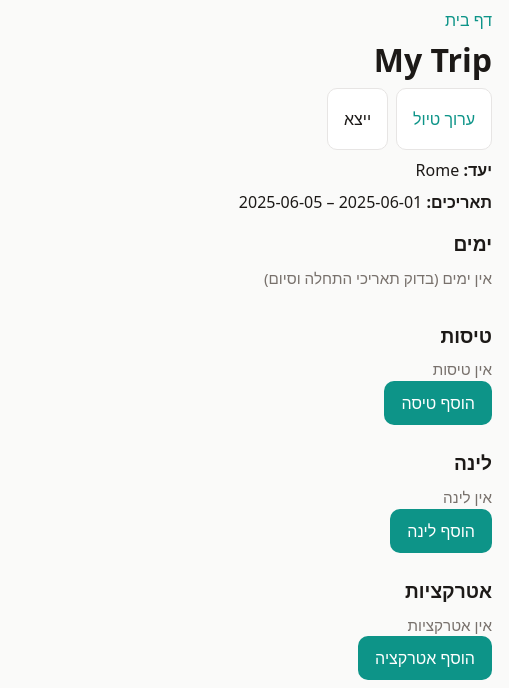
Scenario: Trip page › opens export dialog with TXT and PDF when clicking ייצא
The image size is (509, 688).
Check: the button "TXT" is not shown
What coordinates should you click on to do the following:
click the button "ייצא"
I would click on:
 (358, 119)
Its box is [327,88,388,150].
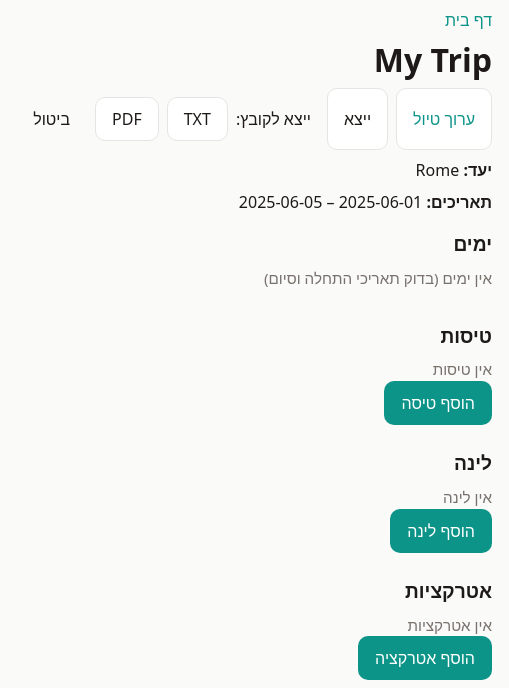
Check: the button "TXT" is shown, box [167,97,228,141]
Check: the button "PDF" is shown, box [95,97,159,141]
Check: the button "ביטול" is shown, box [16,97,87,141]
